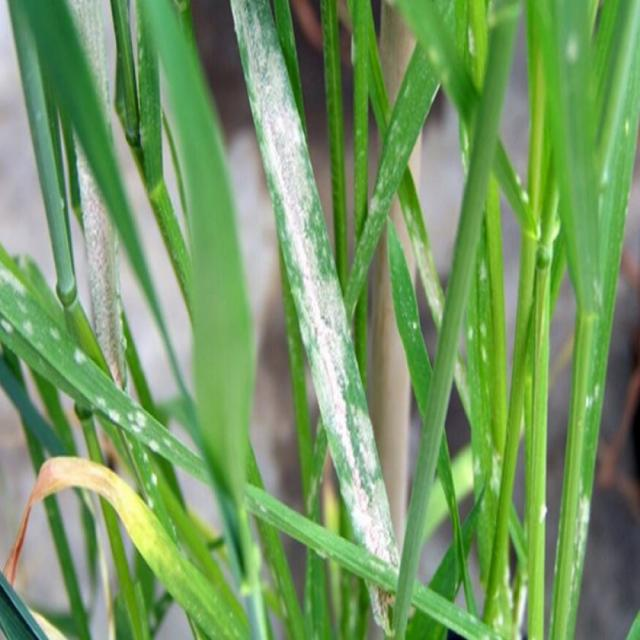wheat-powdery-mildew: (228, 0, 398, 569), (0, 243, 213, 490), (75, 142, 136, 404)
